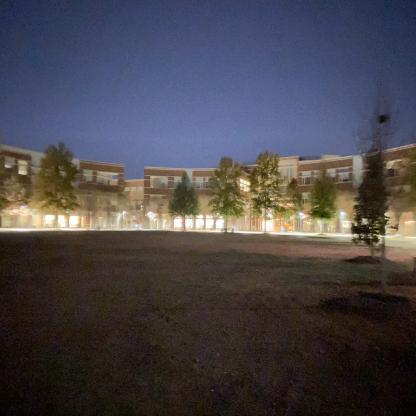eb2: (138, 159, 415, 241)
